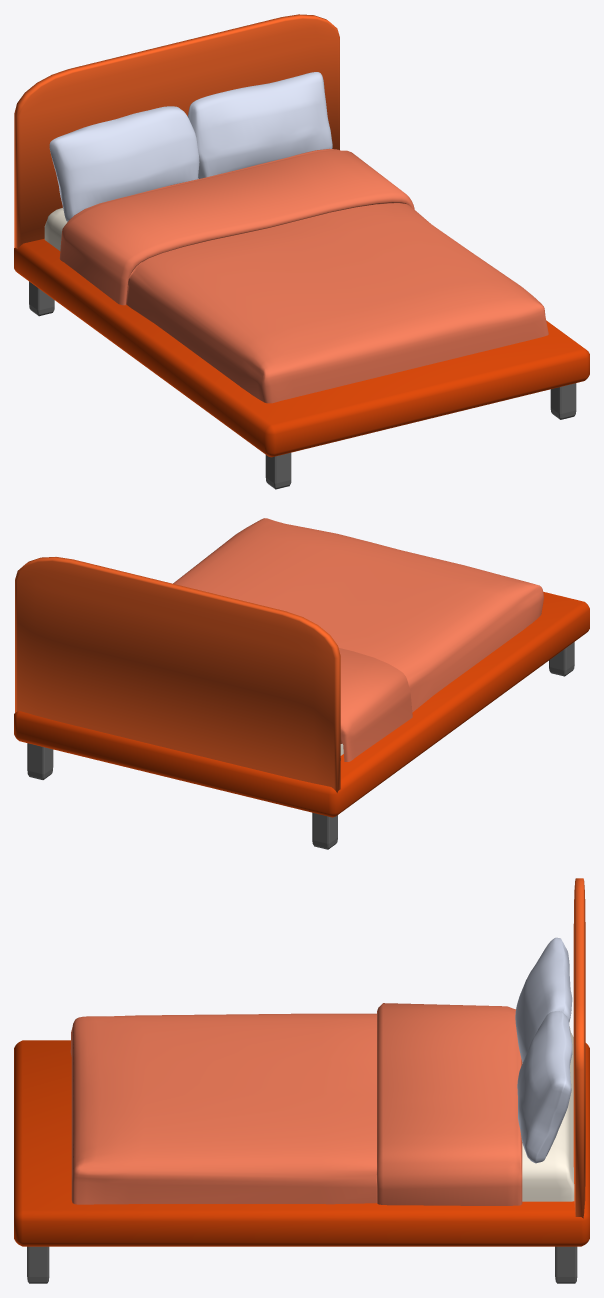
Rendered from Bed.fbx.
The picture shows the model from 3 angles, top to bottom: view 1: azimuth 30°, elevation 25°; view 2: azimuth 150°, elevation 25°; view 3: azimuth 270°, elevation 25°; orthographic projection. The views are drawn at different scales.
Visible parts, largest first — view 1: bed; view 2: bed; view 3: bed.
Boxes of the visible parts, x1,y1,x2,y2 form: bed: (14, 14, 589, 489); bed: (14, 518, 589, 849); bed: (14, 878, 589, 1283).
Bounding box in the file's own units: 200 × 134 × 275.
Materials: 1 (1 with a texture image).
